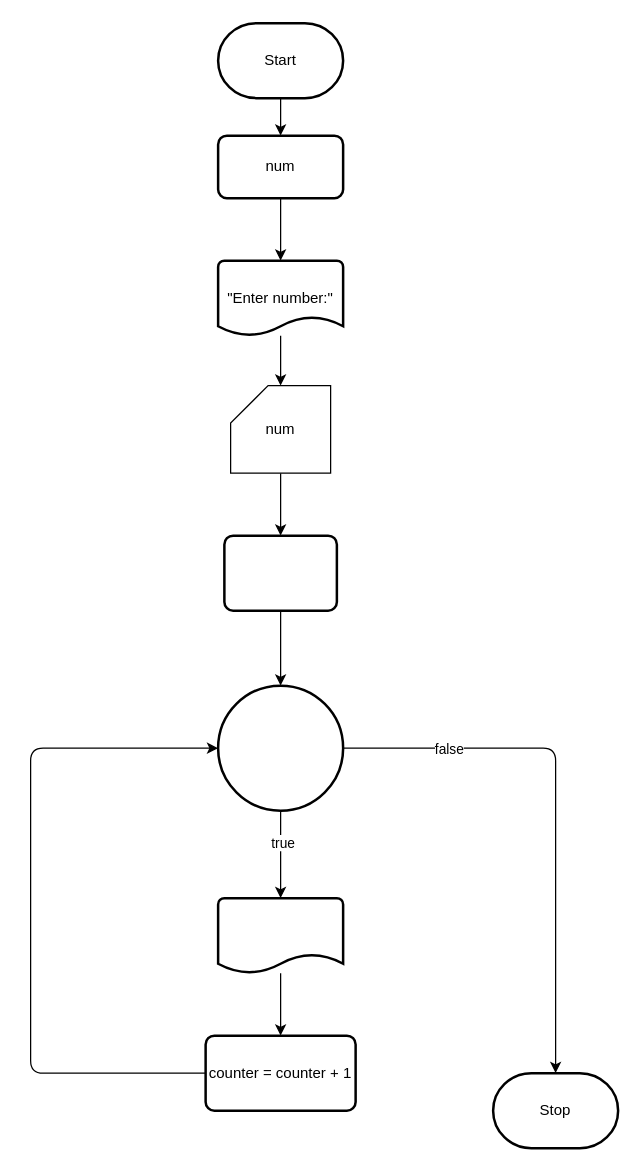
This 641x1170 diagram has some shape labels left out. The shapes that lost their labels are listed below. From the top down, each one's centre as x and y in pixels, then its label:
pixel 280 572: counter = 1
pixel 280 747: while counter <= num
pixel 280 935: "Guy\n"
